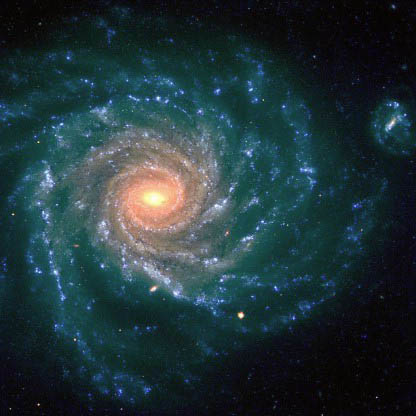NGC 1232: (10, 18, 406, 411)
